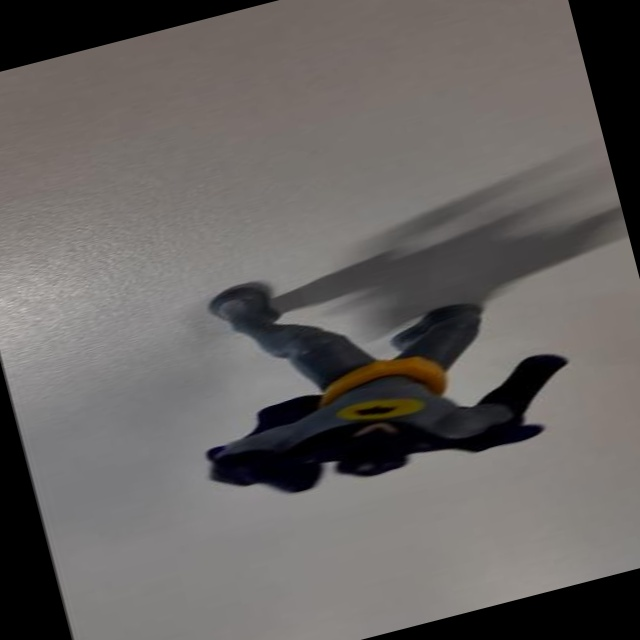Batman: (132, 174, 605, 540)
